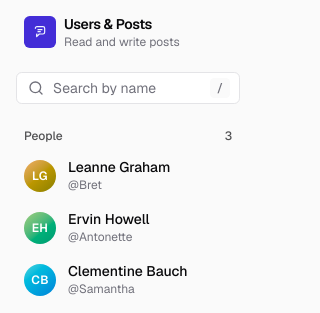
AppSidebar search › shows an empty state when nothing matches, and clearing restores the list
Expected: the link "LG Leanne Graham @Bret" is shown, [24, 158, 170, 193]
Type "nobody" into the search field named "Search people by name" at (128, 88), box [16, 72, 240, 104]
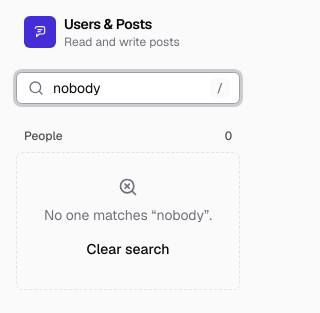
Result: the text "No one matches “nobody”." is shown at [44, 205, 212, 225]
Click the button "Clear search" at (128, 249), box [76, 233, 180, 265]
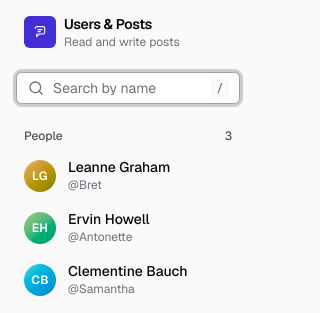
Result: the link "LG Leanne Graham @Bret" is shown at [24, 158, 170, 193]
Result: the search field is empty at [16, 72, 240, 104]
